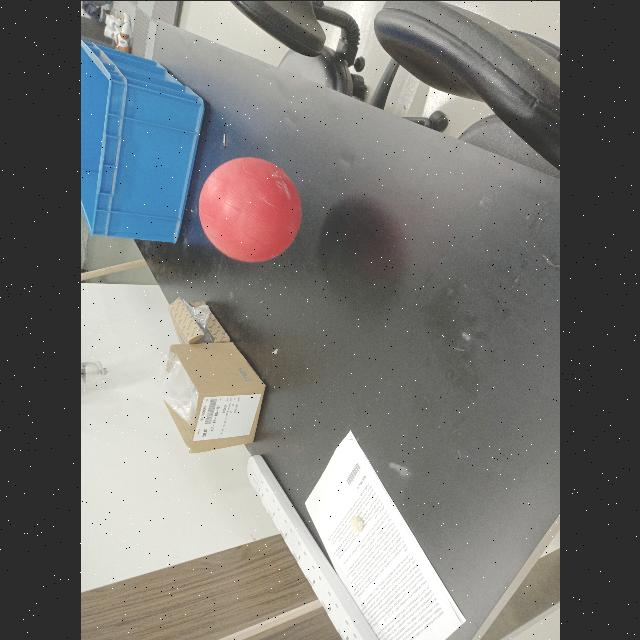R: (191, 156, 303, 264)
